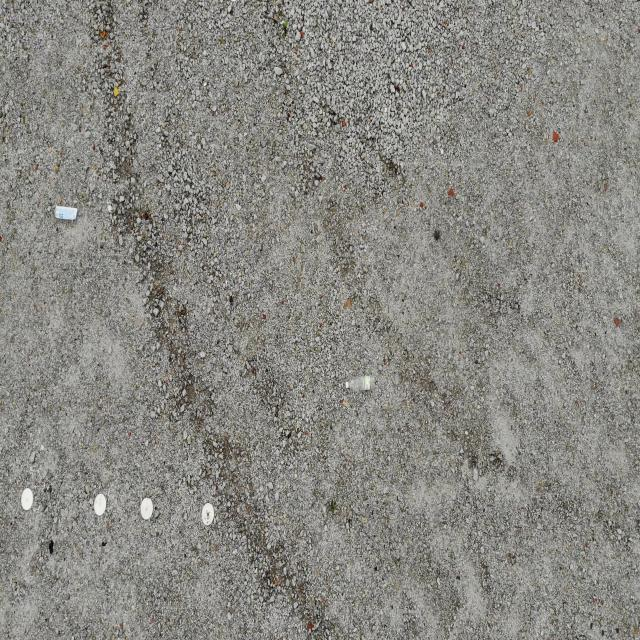rubbish: (55, 201, 79, 222), (345, 375, 377, 389)
